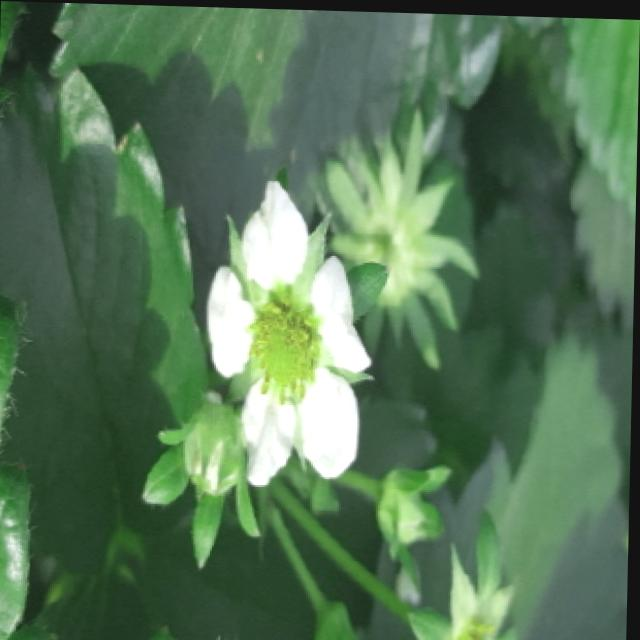Blossom Blight: (242, 278, 329, 409)
